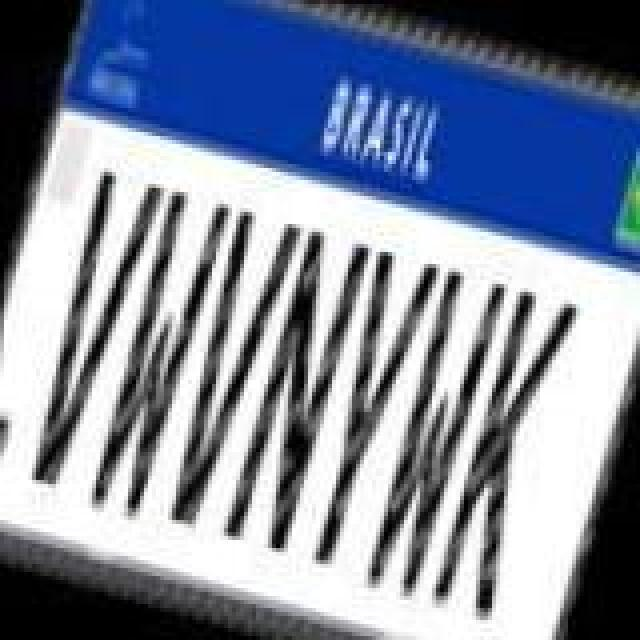K: (426, 282, 582, 626)
N: (216, 222, 372, 562)
V: (148, 202, 304, 542), (10, 164, 166, 500)
W: (350, 262, 506, 610), (76, 182, 232, 526)
Y: (286, 242, 442, 578)
